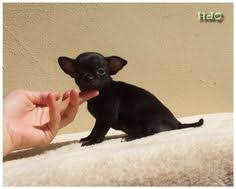chihuahua: (51, 37, 210, 152)
